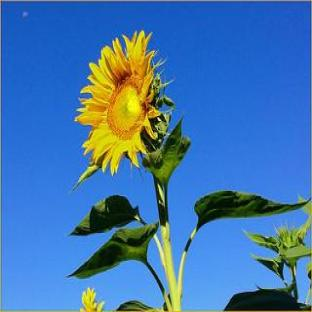sunflower: (73, 31, 190, 191)
